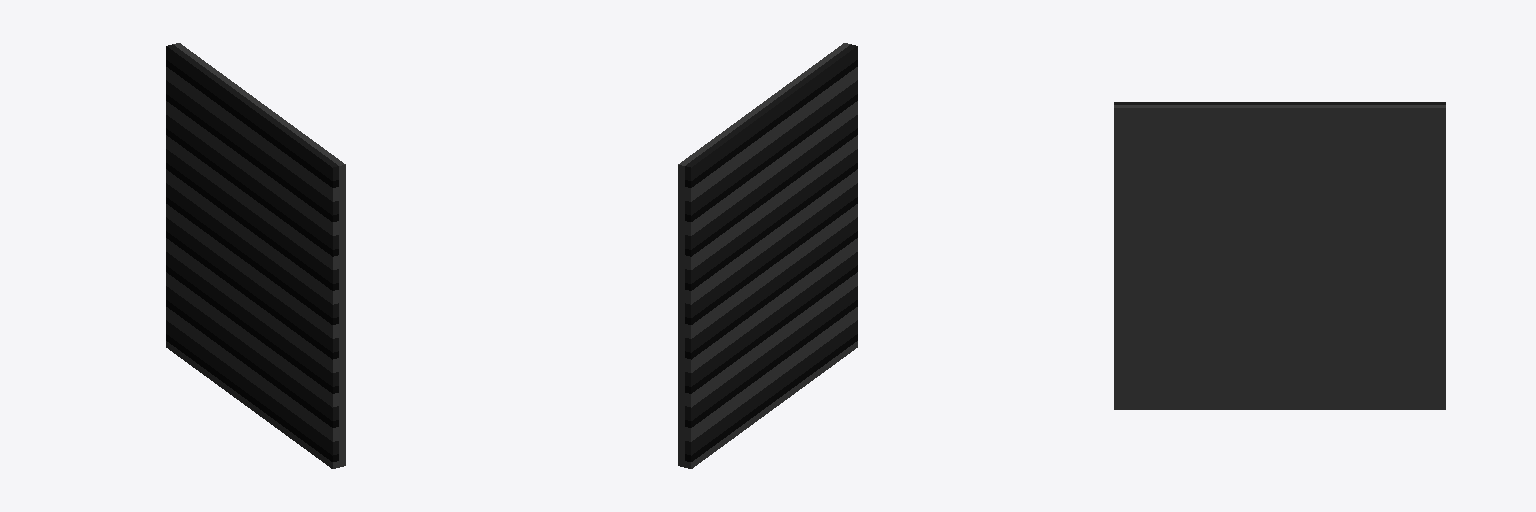
3 views of the same model, side by side, from view 1: azimuth 30°, elevation 25°; view 2: azimuth 150°, elevation 25°; view 3: azimuth 270°, elevation 25° (orthographic).
Parts seen in each view (by area): view 1: object 1; view 2: object 1; view 3: object 1.
Boxes of the visible parts, x1,y1,x2,y2 form: object 1: [166, 43, 345, 468]; object 1: [678, 43, 857, 468]; object 1: [1114, 102, 1445, 409].
Size of the model in its own units: 0.2 by 4.4 by 4.4.
1 materials, 1 textured.